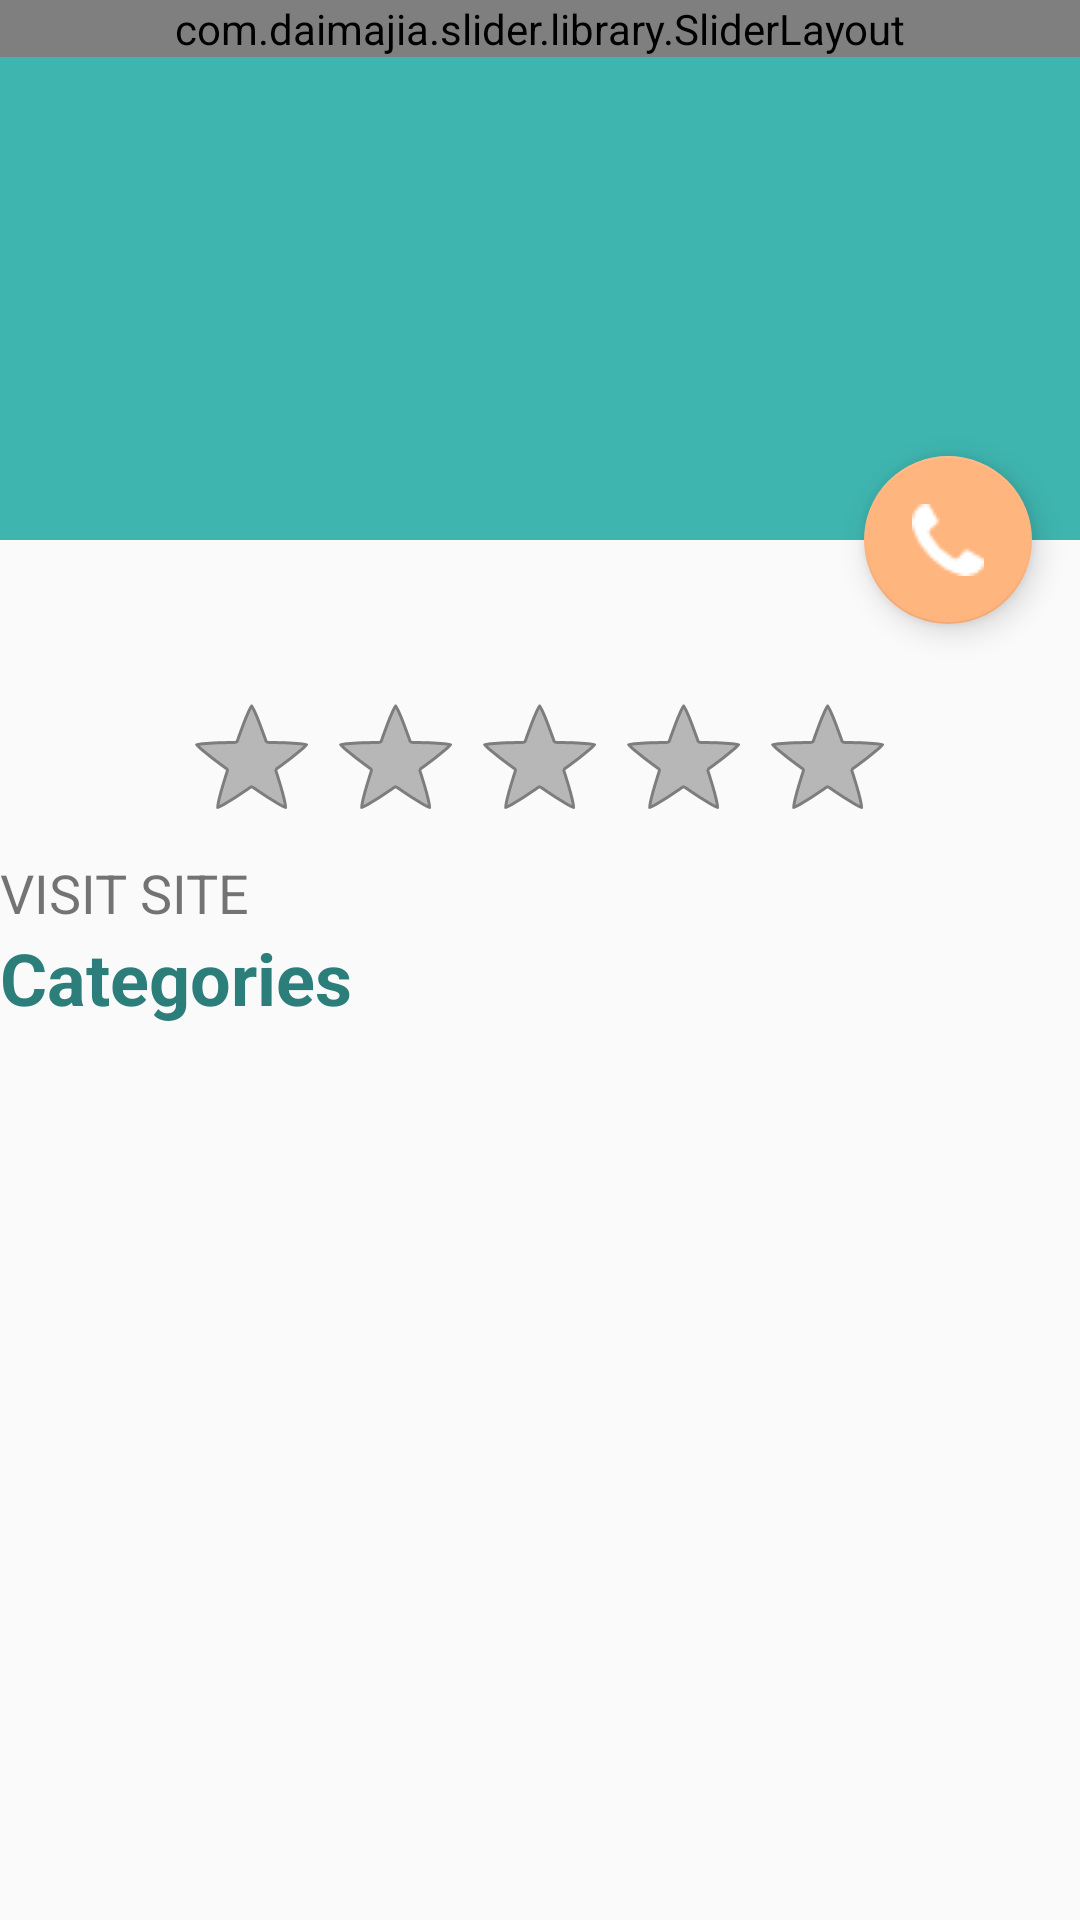

Icon click points for this 1080w x 1920h phone screenshot, format point (x, y):
call: point (948, 540)
